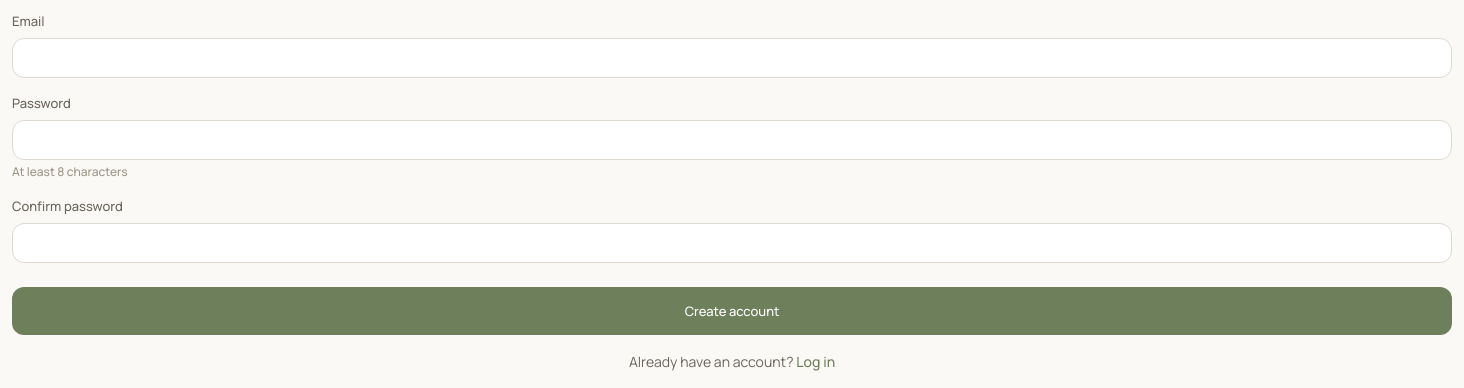
it: RegisterForm › registers, auto-logs in, and navigates to the app on success
Type "new@example.com" into the field labelled "Email" at (732, 58), box top-left (12, 38), bottom-right (1452, 78)
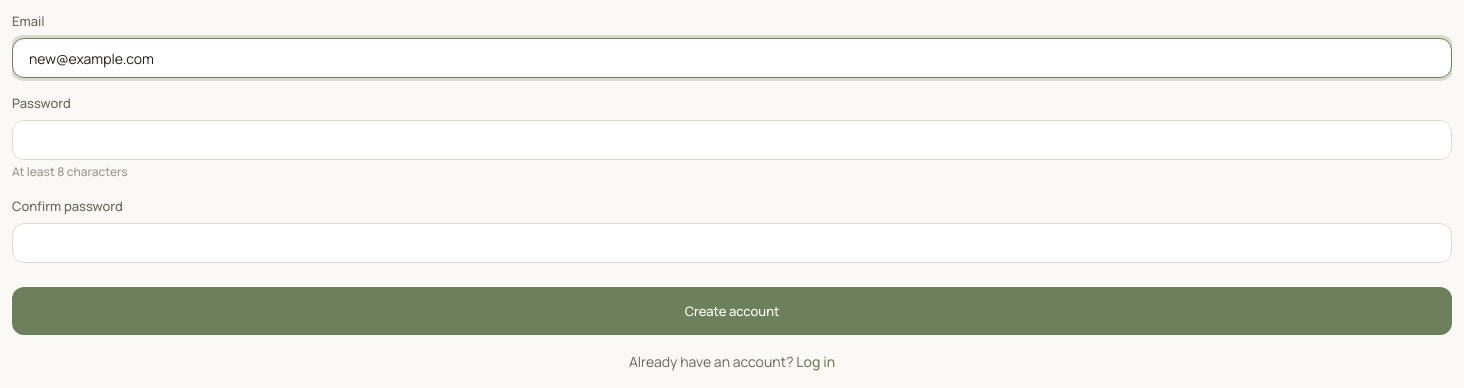
Type "supersecret123" into the password field labelled "Password" at (732, 140), box top-left (12, 120), bottom-right (1452, 160)
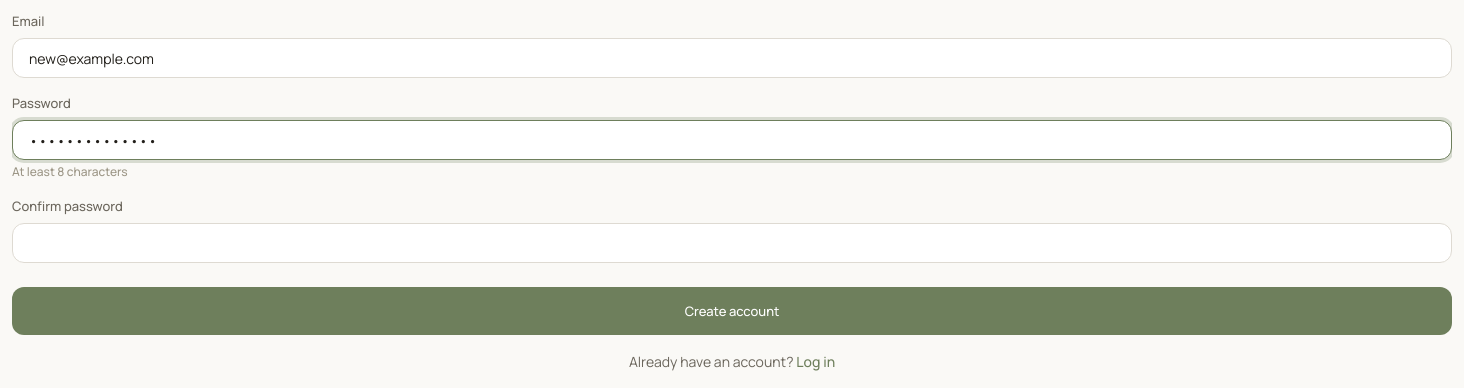
Type "supersecret123" into the password field labelled "Confirm password" at (732, 243), box top-left (12, 223), bottom-right (1452, 263)
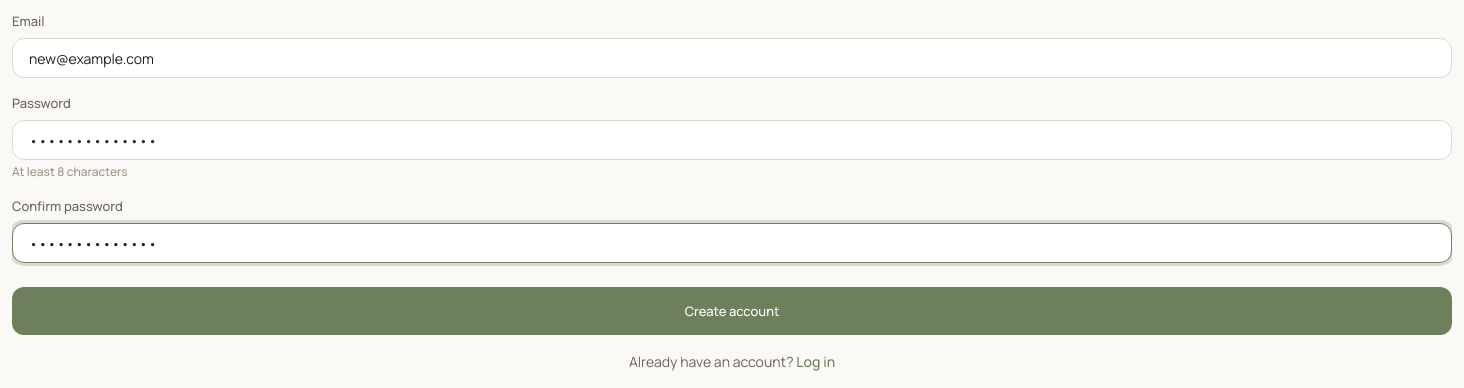
Click the button "Create account" at (732, 311), box top-left (12, 287), bottom-right (1452, 335)
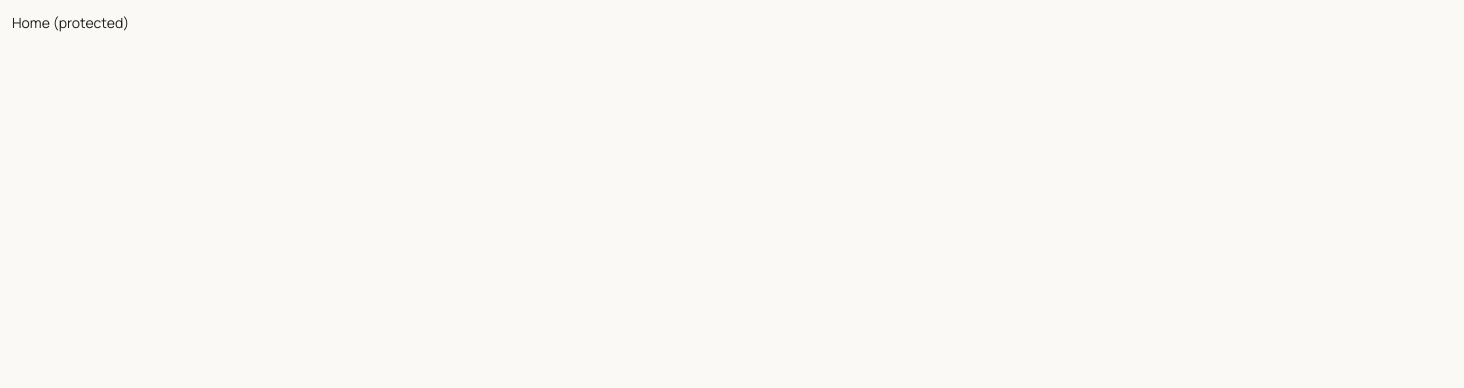
Check: the text "Home (protected)" is shown, box top-left (12, 13), bottom-right (129, 32)
